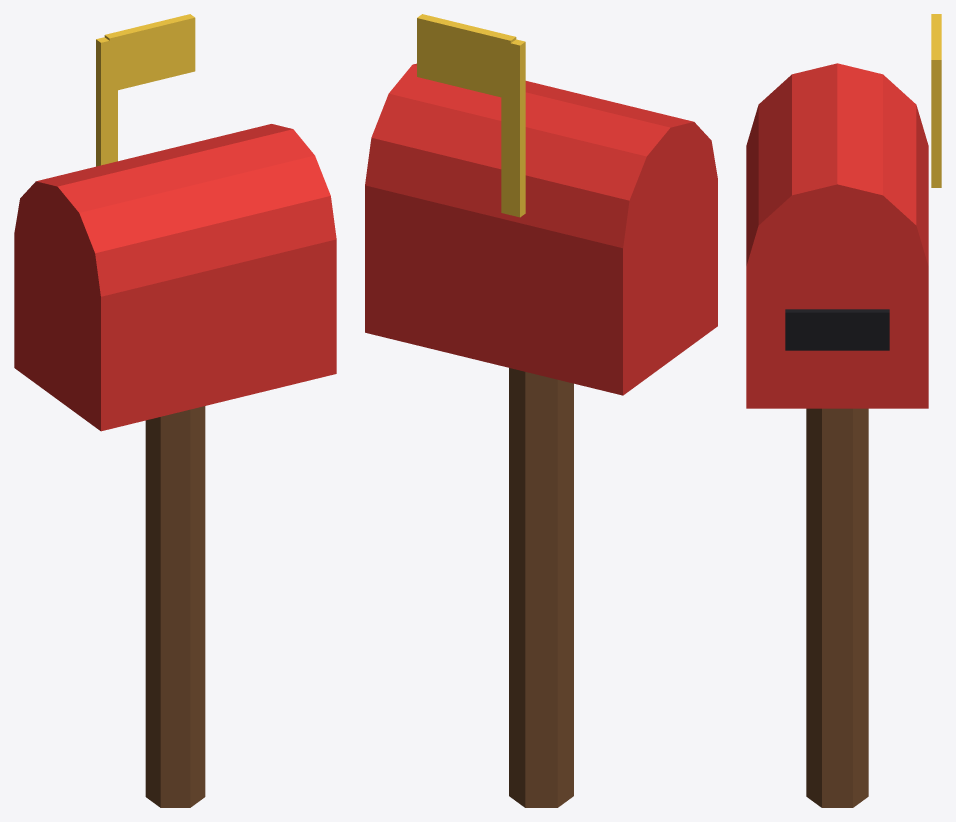
File: mailbox.glb
3 renders of one model, left to right at view 1: azimuth 30°, elevation 25°; view 2: azimuth 150°, elevation 25°; view 3: azimuth 270°, elevation 25°, orthographic. The views are drawn at different scales.
Visible parts, largest first — view 1: mailbox; view 2: mailbox; view 3: mailbox.
Boxes of the visible parts, box(x1,y1,x2,y2) form: mailbox: box(14, 14, 336, 807); mailbox: box(365, 14, 717, 807); mailbox: box(746, 14, 941, 807).
Size of the model in its own units: 0.565 by 1.63 by 0.375.
